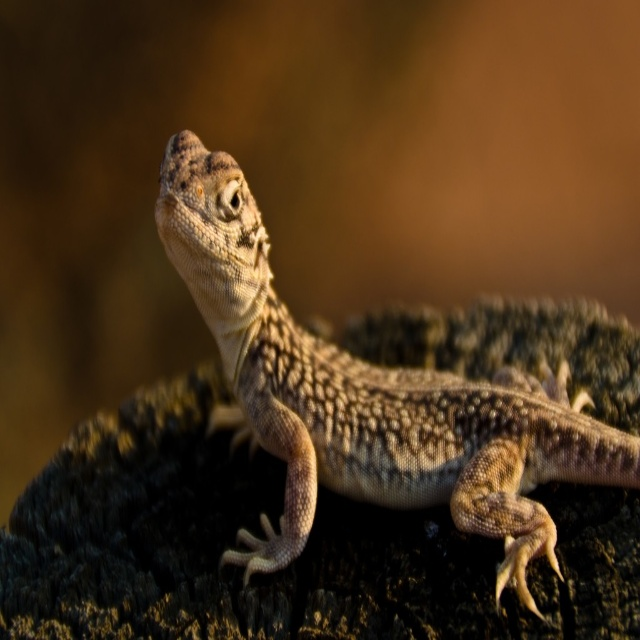Lizard: (156, 128, 638, 619)
